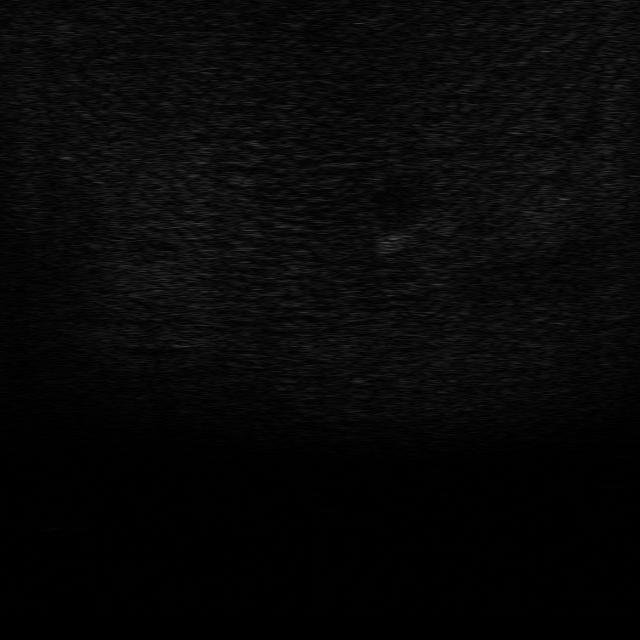plane: (365, 218, 440, 259)
